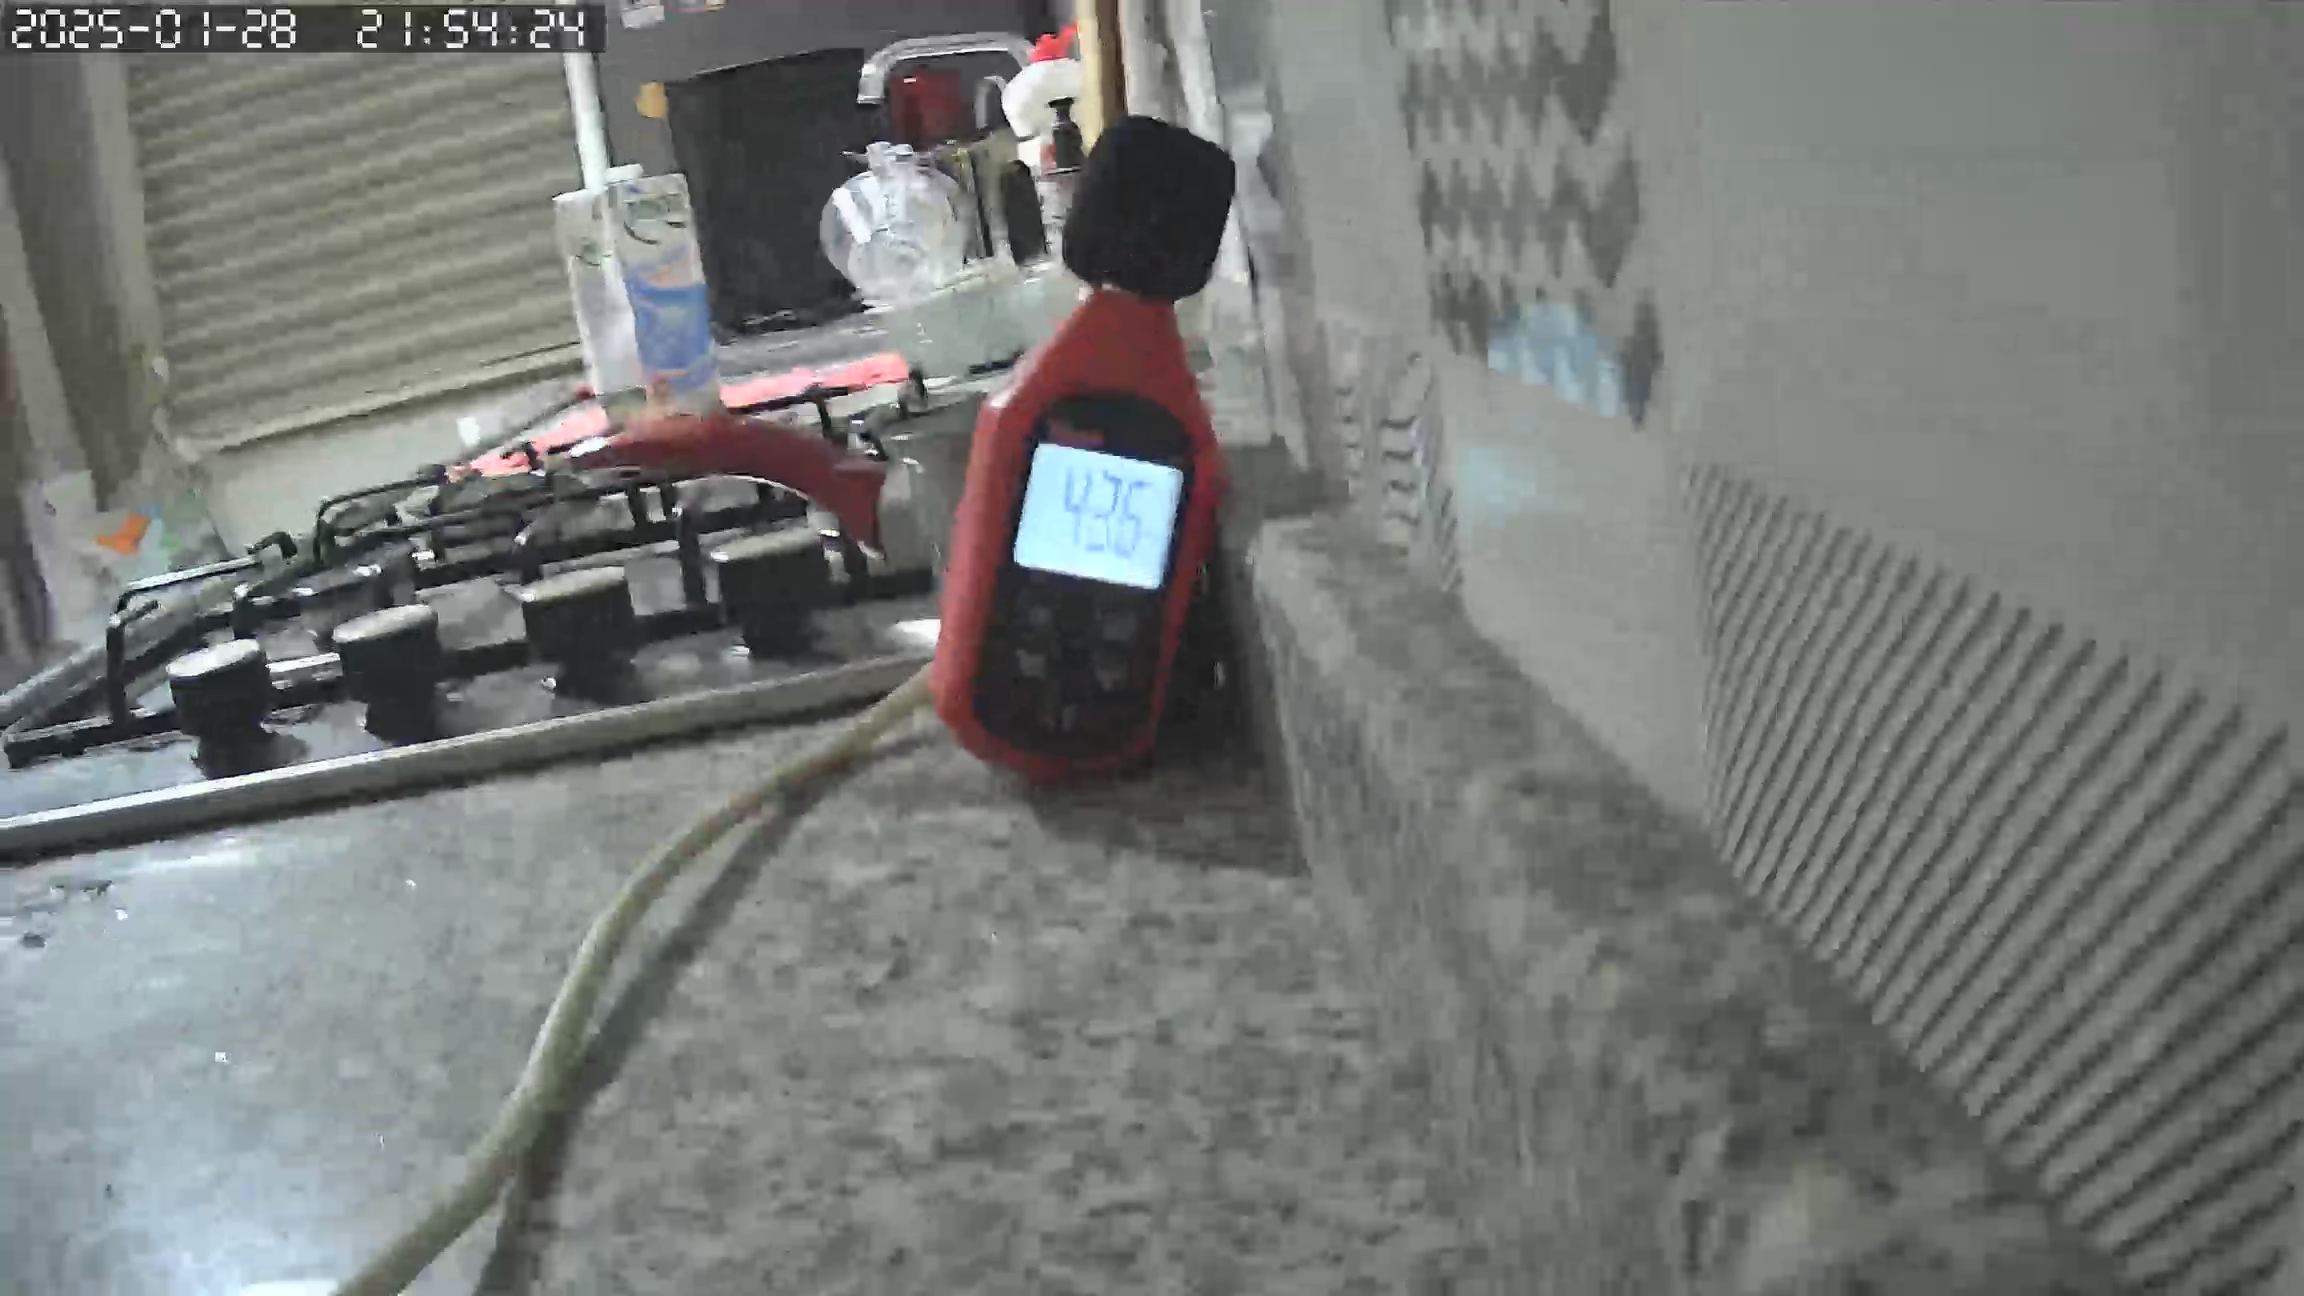screen: (1014, 443, 1180, 587)
